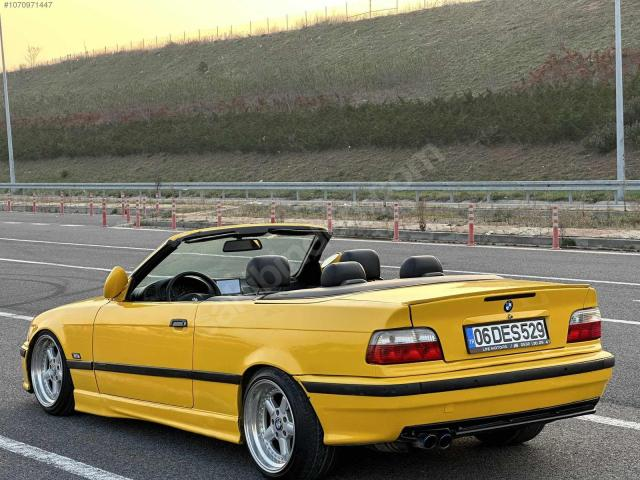plaka: (465, 318, 550, 353)
